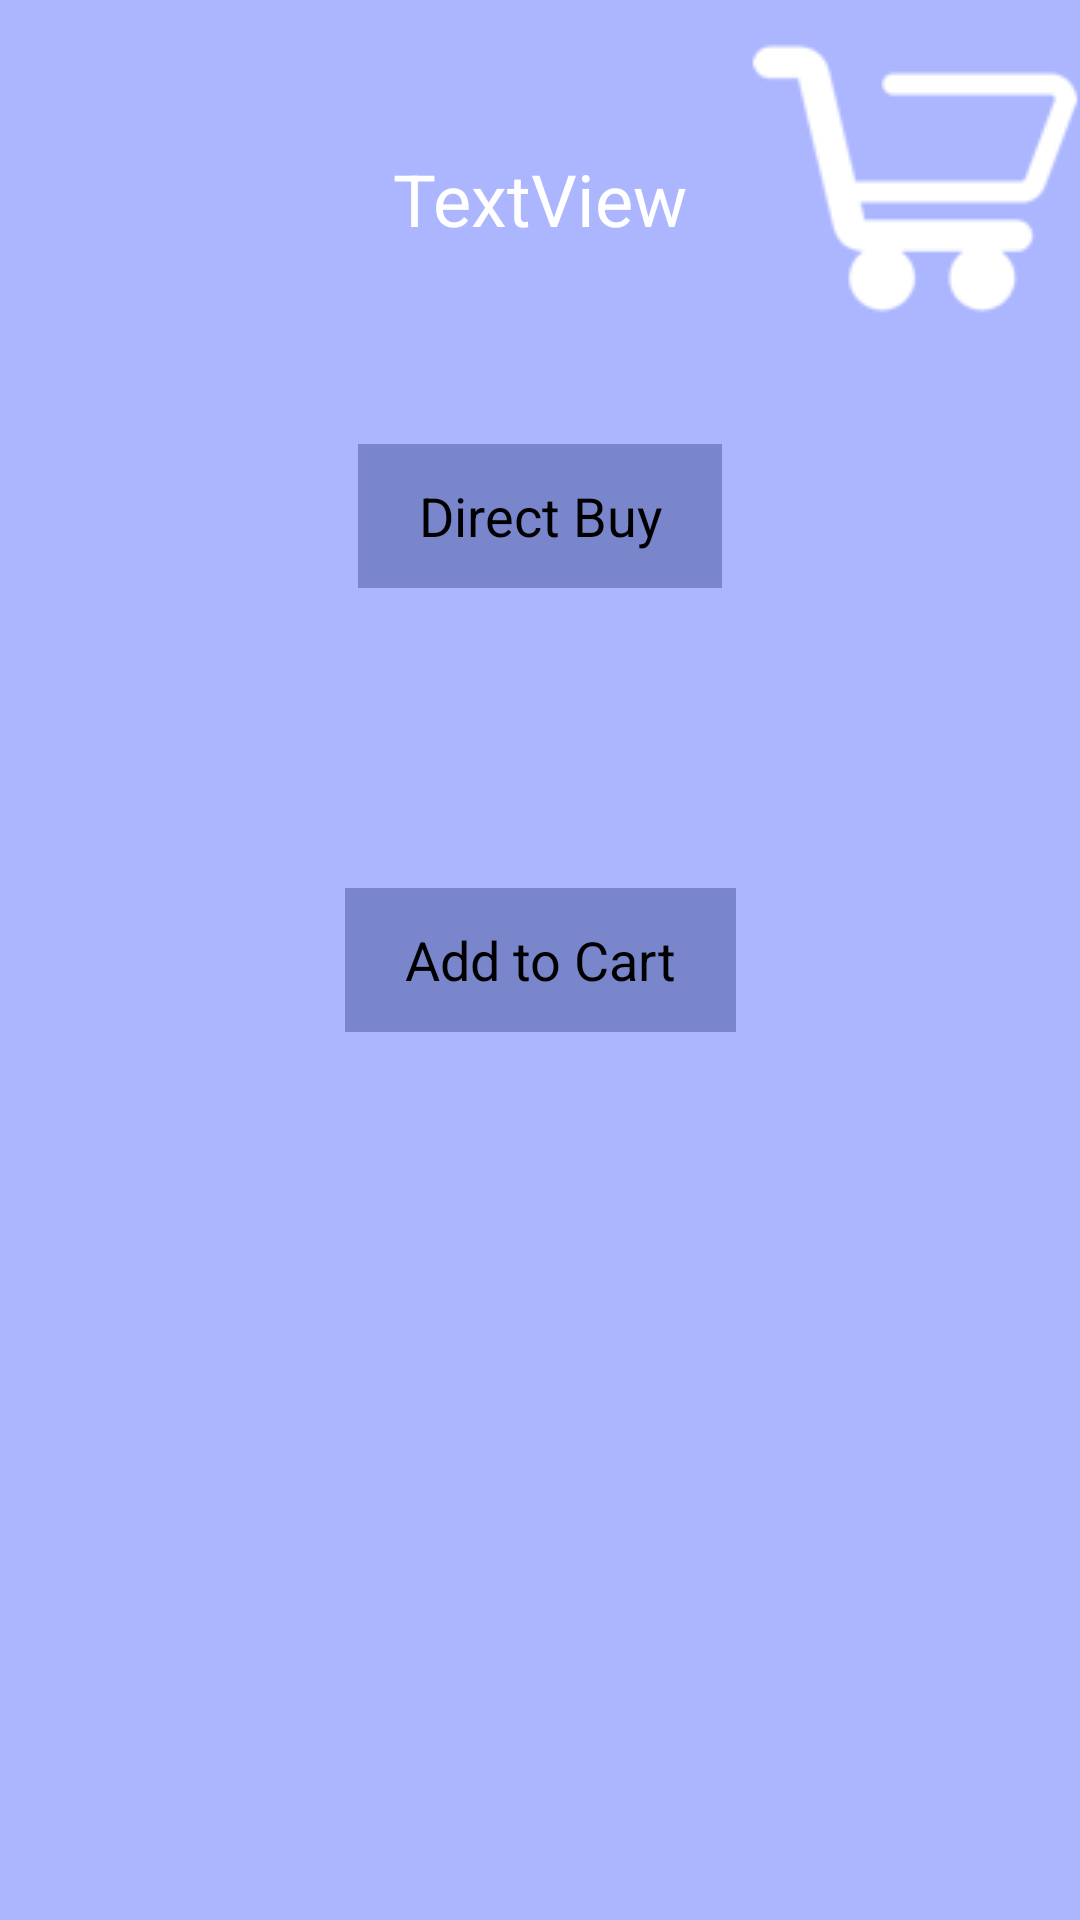

Locate icon controls on the screen. Image size 1080*1920, boxes as (x1, y1, x2, y2).
cart: (752, 45, 1078, 312)
